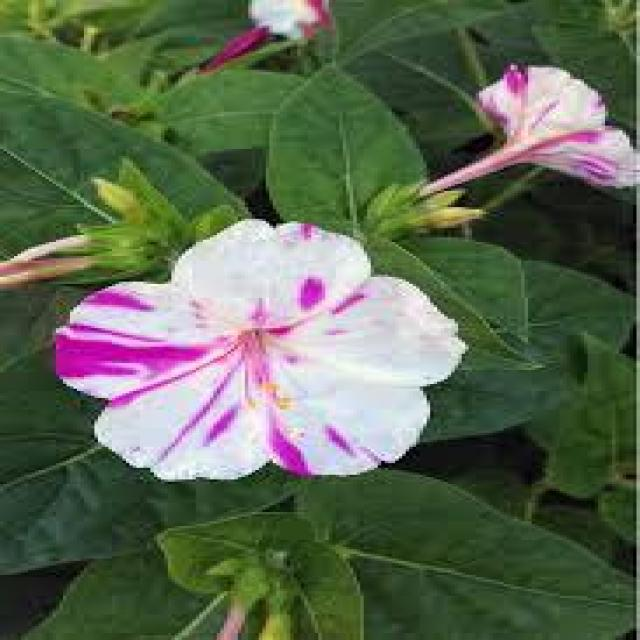organic waste: (60, 214, 458, 477), (411, 54, 624, 202)
